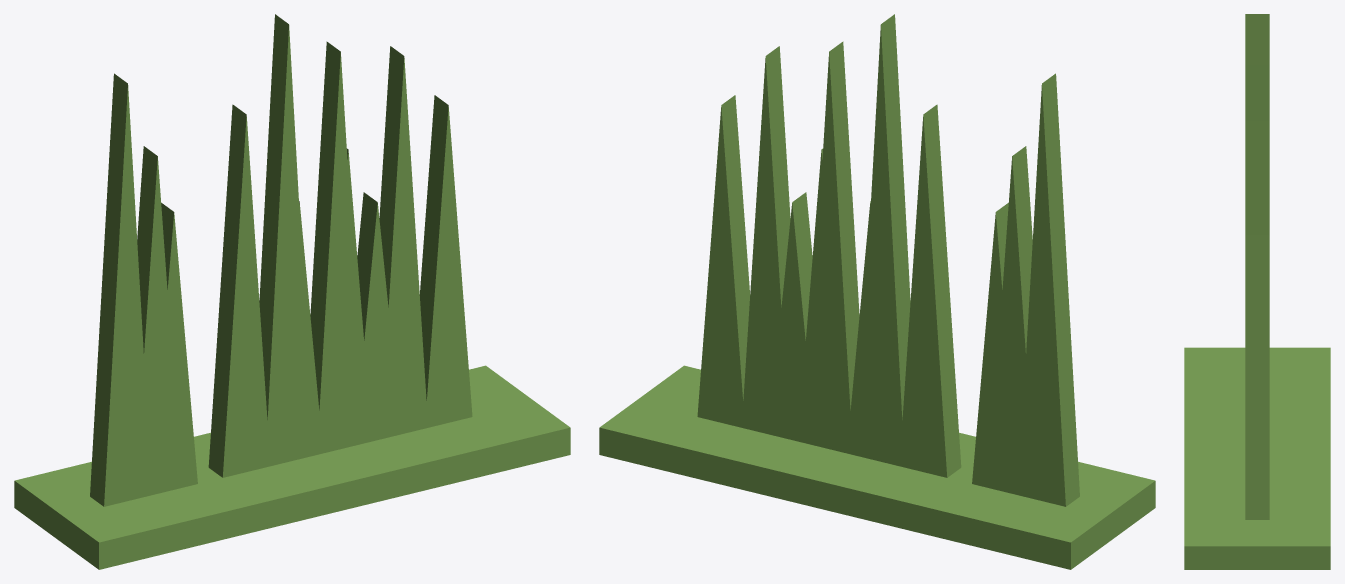
The model's file is GG-VEG-GRASS-COASTAL-DENSE-001_LOD_GAMEPLAY.glb.
The picture shows the model from 3 angles, left to right: view 1: azimuth 30°, elevation 25°; view 2: azimuth 150°, elevation 25°; view 3: azimuth 270°, elevation 25°; orthographic projection. The views are drawn at different scales.
Visible parts, largest first — view 1: GG_VEG_MOD_BASE_001, GG_VEG_MODULE_7, GG_VEG_MODULE_5, GG_VEG_MODULE_4, GG_VEG_MODULE_11, GG_VEG_MODULE_2, GG_VEG_MODULE_10, GG_VEG_MODULE_6, GG_VEG_MODULE_3, GG_VEG_MODULE_8, GG_VEG_MODULE_1, GG_VEG_MODULE_9; view 2: GG_VEG_MOD_BASE_001, GG_VEG_MODULE_7, GG_VEG_MODULE_5, GG_VEG_MODULE_4, GG_VEG_MODULE_2, GG_VEG_MODULE_11, GG_VEG_MODULE_10, GG_VEG_MODULE_6, GG_VEG_MODULE_3, GG_VEG_MODULE_1, GG_VEG_MODULE_8, GG_VEG_MODULE_9; view 3: GG_VEG_MOD_BASE_001, GG_VEG_MODULE_11, GG_VEG_MODULE_2, GG_VEG_MODULE_4, GG_VEG_MODULE_7, GG_VEG_MODULE_10.
Boxes of the visible parts, <box> form: GG_VEG_MOD_BASE_001: <box>14,365,570,569</box>; GG_VEG_MODULE_7: <box>90,73,151,506</box>; GG_VEG_MODULE_5: <box>208,104,270,477</box>; GG_VEG_MODULE_4: <box>259,14,313,467</box>; GG_VEG_MODULE_11: <box>419,95,472,428</box>; GG_VEG_MODULE_2: <box>379,46,428,434</box>; GG_VEG_MODULE_10: <box>310,41,356,453</box>; GG_VEG_MODULE_6: <box>151,203,197,494</box>; GG_VEG_MODULE_3: <box>324,148,372,452</box>; GG_VEG_MODULE_8: <box>137,146,175,482</box>; GG_VEG_MODULE_1: <box>355,192,401,443</box>; GG_VEG_MODULE_9: <box>276,201,323,464</box>; GG_VEG_MOD_BASE_001: <box>599,365,1155,569</box>; GG_VEG_MODULE_7: <box>1018,73,1079,506</box>; GG_VEG_MODULE_5: <box>899,104,961,477</box>; GG_VEG_MODULE_4: <box>856,14,910,467</box>; GG_VEG_MODULE_2: <box>741,46,790,438</box>; GG_VEG_MODULE_11: <box>697,95,750,427</box>; GG_VEG_MODULE_10: <box>805,41,859,453</box>; GG_VEG_MODULE_6: <box>972,203,1018,494</box>; GG_VEG_MODULE_3: <box>797,148,845,452</box>; GG_VEG_MODULE_1: <box>768,192,815,445</box>; GG_VEG_MODULE_8: <box>993,146,1032,482</box>; GG_VEG_MODULE_9: <box>846,201,893,464</box>; GG_VEG_MOD_BASE_001: <box>1184,347,1330,569</box>; GG_VEG_MODULE_11: <box>1245,235,1269,519</box>; GG_VEG_MODULE_2: <box>1245,165,1269,235</box>; GG_VEG_MODULE_4: <box>1245,64,1269,120</box>; GG_VEG_MODULE_7: <box>1245,14,1269,64</box>; GG_VEG_MODULE_10: <box>1245,121,1269,164</box>.
Size of the model in its own units: 1.08 by 1.02 by 0.336.
